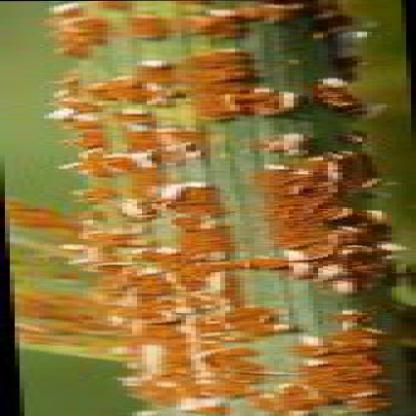wheat Stem Rust: (104, 3, 397, 298), (141, 307, 381, 415), (12, 210, 93, 338)
